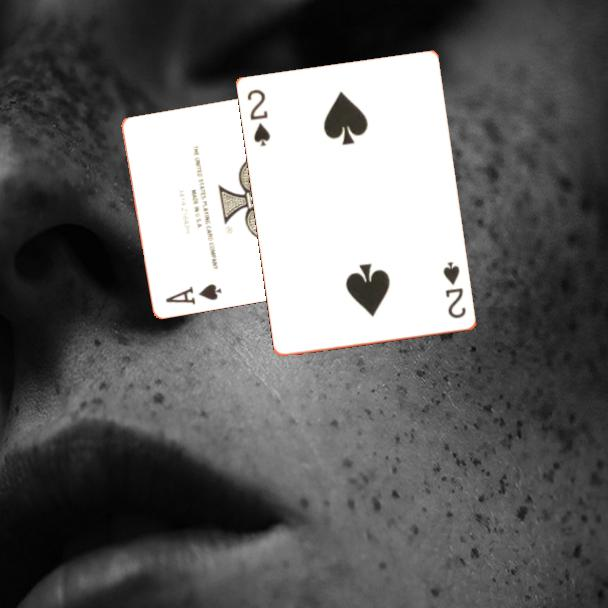s01: (162, 280, 224, 307)
s02: (244, 86, 274, 149), (440, 258, 469, 322)
